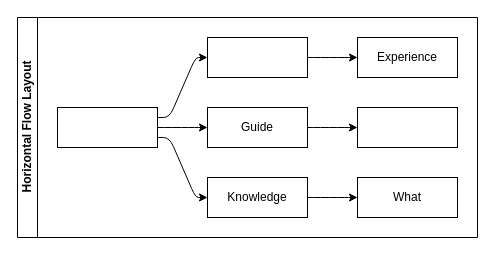
This 495x255 diagram has some shape labels left out. Here are the shapes that lost their labels. From the top down, the centre of each, then its label:
At (x=257, y=57): "Troublshooting SOP".
At (x=107, y=127): "issue".
At (x=407, y=127): "How to".
